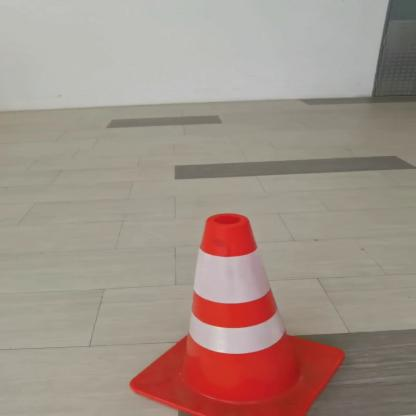cone: (121, 207, 355, 416)
